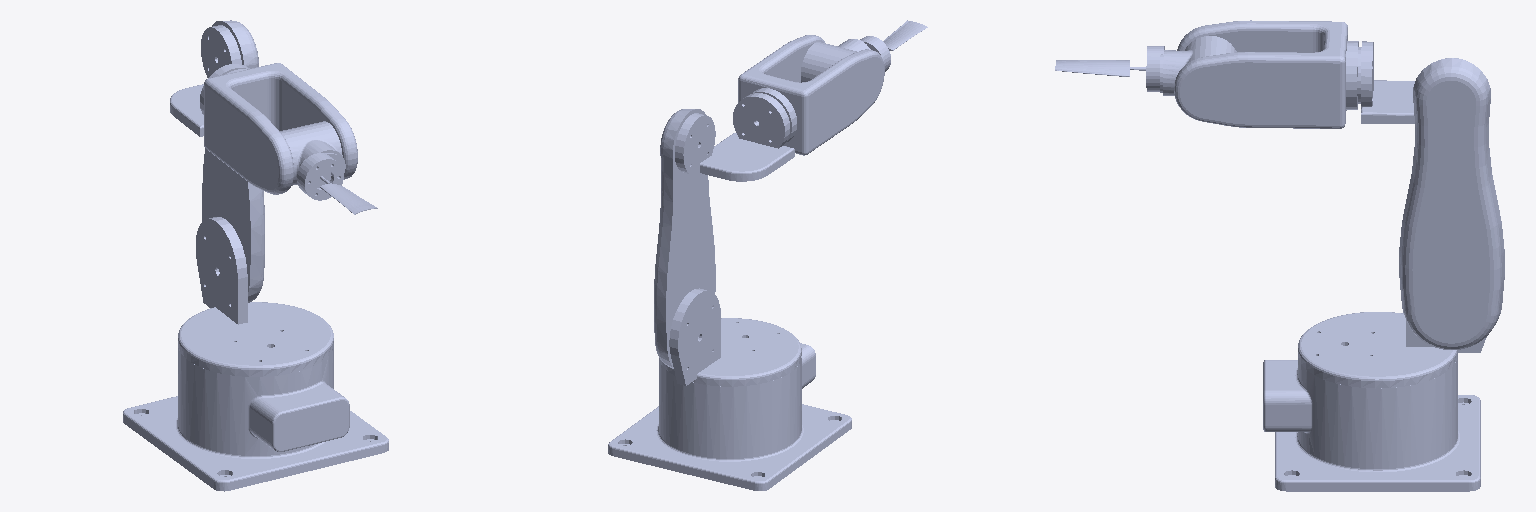
URDF robot description (solid_robot):
<?xml version="1.0" encoding="utf-8" ?>
<!-- This URDF was automatically created by SolidWorks to URDF Exporter! Originally created by [author] ([email redacted]) 
     Commit Version: 1.6.0-4-g7f85cfe  Build Version: 1.6.7995.38578
     For more information, please see http://wiki.ros.org/sw_urdf_exporter -->
<robot name="solid_robot">
    <link name="world" />
    <joint name="base_joint" type="fixed">
        <parent link="world" />
        <child link="base_link" />
        <origin rpy="0 0 0" xyz="0.0 0.0 0.0" />
    </joint>
    <link name="base_link">
        <inertial>
            <origin xyz="-3.0665E-09 0.040159 0.0053975" rpy="0 0 0" />
            <mass value="1.6162" />
            <inertia ixx="0.0041025" ixy="4.7578E-10" ixz="3.3026E-10" iyy="0.0053684" iyz="-8.5852E-05" izz="0.0034747" />
        </inertial>
        <visual>
            <origin xyz="0 0 0" rpy="0 0 0" />
            <geometry>
                <mesh filename="package://solid_robot/meshes/base_link.STL" />
            </geometry>
            <material name="">
                <color rgba="0.79216 0.81961 0.93333 1" />
            </material>
        </visual>
        <collision>
            <origin xyz="0 0 0" rpy="0 0 0" />
            <geometry>
                <mesh filename="package://solid_robot/meshes/base_link.STL" />
            </geometry>
        </collision>
    </link>
    <link name="link_1">
        <inertial>
            <origin xyz="-0.015064 0.017316 -1.5849E-06" rpy="0 0 0" />
            <mass value="0.25096" />
            <inertia ixx="0.0003566" ixy="0.00013216" ixz="-1.9113E-08" iyy="0.00066525" iyz="1.2823E-08" izz="0.00056389" />
        </inertial>
        <visual>
            <origin xyz="0 0 0" rpy="0 0 0" />
            <geometry>
                <mesh filename="package://solid_robot/meshes/link_1.STL" />
            </geometry>
            <material name="">
                <color rgba="0.79216 0.81961 0.93333 1" />
            </material>
        </visual>
        <collision>
            <origin xyz="0 0 0" rpy="0 0 0" />
            <geometry>
                <mesh filename="package://solid_robot/meshes/link_1.STL" />
            </geometry>
        </collision>
    </link>
    <joint name="joint_1" type="revolute">
        <origin xyz="0 0 0.087" rpy="1.5708 0 -1.6004" />
        <parent link="base_link" />
        <child link="link_1" />
        <axis xyz="0 1 0" />
        <limit lower="-0.785" upper="0.785" effort="200" velocity="3" />
    </joint>
    <link name="link_2">
        <inertial>
            <origin xyz="-3.1964E-12 0.086089 0.012331" rpy="0 0 0" />
            <mass value="0.37821" />
            <inertia ixx="0.0020782" ixy="-8.0045E-14" ixz="-9.898E-15" iyy="0.00018523" iyz="1.0283E-06" izz="0.0022389" />
        </inertial>
        <visual>
            <origin xyz="0 0 0" rpy="0 0 0" />
            <geometry>
                <mesh filename="package://solid_robot/meshes/link_2.STL" />
            </geometry>
            <material name="">
                <color rgba="0.79216 0.81961 0.93333 1" />
            </material>
        </visual>
        <collision>
            <origin xyz="0 0 0" rpy="0 0 0" />
            <geometry>
                <mesh filename="package://solid_robot/meshes/link_2.STL" />
            </geometry>
        </collision>
    </link>
    <joint name="joint_2" type="revolute">
        <origin xyz="-0.065 0.058 -0.002258" rpy="-3.1416 0 -3.1416" />
        <parent link="link_1" />
        <child link="link_2" />
        <axis xyz="0 0 -1" />
        <limit lower="-3.14" upper="3.14" effort="200" velocity="3" />
    </joint>
    <link name="link_3">
        <inertial>
            <origin xyz="-0.038723 -0.011804 -0.024232" rpy="0 0 0" />
            <mass value="0.10479" />
            <inertia ixx="7.3641E-05" ixy="-1.7839E-06" ixz="-3.2652E-05" iyy="0.00015116" iyz="-9.6678E-06" izz="0.00013645" />
        </inertial>
        <visual>
            <origin xyz="0 0 0" rpy="0 0 0" />
            <geometry>
                <mesh filename="package://solid_robot/meshes/link_3.STL" />
            </geometry>
            <material name="">
                <color rgba="0.79216 0.81961 0.93333 1" />
            </material>
        </visual>
        <collision>
            <origin xyz="0 0 0" rpy="0 0 0" />
            <geometry>
                <mesh filename="package://solid_robot/meshes/link_3.STL" />
            </geometry>
        </collision>
    </link>
    <joint name="joint_3" type="revolute">
        <origin xyz="0 0.2 0" rpy="0 0 0" />
        <parent link="link_2" />
        <child link="link_3" />
        <axis xyz="0 0 1" />
        <limit lower="-3.14" upper="3.14" effort="200" velocity="3" />
    </joint>
    <link name="link_4">
        <inertial>
            <origin xyz="0.066052 0 -1.249E-16" rpy="0 0 0" />
            <mass value="0.39507" />
            <inertia ixx="0.0004683" ixy="-5.5474E-20" ixz="9.4444E-19" iyy="0.0011613" iyz="-1.3394E-19" izz="0.00096916" />
        </inertial>
        <visual>
            <origin xyz="0 0 0" rpy="0 0 0" />
            <geometry>
                <mesh filename="package://solid_robot/meshes/link_4.STL" />
            </geometry>
            <material name="">
                <color rgba="0.79216 0.81961 0.93333 1" />
            </material>
        </visual>
        <collision>
            <origin xyz="0 0 0" rpy="0 0 0" />
            <geometry>
                <mesh filename="package://solid_robot/meshes/link_4.STL" />
            </geometry>
        </collision>
    </link>
    <joint name="joint_4" type="revolute">
        <origin xyz="-0.080143 0 -0.032258" rpy="3.1416 0 3.1416" />
        <parent link="link_3" />
        <child link="link_4" />
        <axis xyz="1 0 0" />
        <limit lower="-1.57" upper="1.57" effort="200" velocity="3" />
    </joint>
    <link name="link_5">
        <inertial>
            <origin xyz="0.0068176 2.5406E-08 9.1119E-09" rpy="0 0 0" />
            <mass value="0.11702" />
            <inertia ixx="3.7166E-05" ixy="-1.1391E-10" ixz="-1.217E-11" iyy="5.5773E-05" iyz="-9.2774E-11" izz="5.3775E-05" />
        </inertial>
        <visual>
            <origin xyz="0 0 0" rpy="0 0 0" />
            <geometry>
                <mesh filename="package://solid_robot/meshes/link_5.STL" />
            </geometry>
            <material name="">
                <color rgba="0.79216 0.81961 0.93333 1" />
            </material>
        </visual>
        <collision>
            <origin xyz="0 0 0" rpy="0 0 0" />
            <geometry>
                <mesh filename="package://solid_robot/meshes/link_5.STL" />
            </geometry>
        </collision>
    </link>
    <joint name="joint_5" type="revolute">
        <origin xyz="0.13286 0 0" rpy="3.1416 0 0" />
        <parent link="link_4" />
        <child link="link_5" />
        <axis xyz="0 0 1" />
        <limit lower="-3.14" upper="3.14" effort="200" velocity="3" />
    </joint>
    <link name="link_6">
        <inertial>
            <origin xyz="-0.00020456 0.00098086 0.033419" rpy="0 0 0" />
            <mass value="0.030395" />
            <inertia ixx="7.219E-06" ixy="2.8444E-07" ixz="-1.0737E-07" iyy="7.4262E-06" iyz="-1.2439E-07" izz="3.797E-06" />
        </inertial>
        <visual>
            <origin xyz="-0.009 0.004 0" rpy="0 0 0" />
            <geometry>
                <mesh filename="package://solid_robot/meshes/link_6.STL" />
            </geometry>
            <material name="">
                <color rgba="0.79216 0.81961 0.93333 1" />
            </material>
        </visual>
        <collision>
            <origin xyz="0 0 0" rpy="0 0 0" />
            <geometry>
                <mesh filename="package://solid_robot/meshes/link_6.STL" />
            </geometry>
        </collision>
    </link>
    <joint name="joint_6" type="revolute">
        <origin xyz="0.040026 0 0" rpy="-1.5708 -1.0837 -1.5708" />
        <parent link="link_5" />
        <child link="link_6" />
        <axis xyz="0 0 1" />
        <limit lower="-3.14" upper="3.14" effort="200" velocity="3" />
    </joint>
    <transmission name="link_1_trans">
        <type>transmission_interface/SimpleTransmission</type>
        <joint name="joint_1">
            <hardwareInterface>hardware_interface/PositionJointInterface</hardwareInterface>
        </joint>
        <actuator name="link_1_motor">
            <hardwareInterface>hardware_interface/PositionJointInterface</hardwareInterface>
            <mechanicalReduction>1</mechanicalReduction>
        </actuator>
    </transmission>
    <transmission name="link_2_trans">
        <type>transmission_interface/SimpleTransmission</type>
        <joint name="joint_2">
            <hardwareInterface>hardware_interface/PositionJointInterface</hardwareInterface>
        </joint>
        <actuator name="link_2_motor">
            <hardwareInterface>hardware_interface/PositionJointInterface</hardwareInterface>
            <mechanicalReduction>1</mechanicalReduction>
        </actuator>
    </transmission>
    <transmission name="link_3_trans">
        <type>transmission_interface/SimpleTransmission</type>
        <joint name="joint_3">
            <hardwareInterface>hardware_interface/PositionJointInterface</hardwareInterface>
        </joint>
        <actuator name="link_3_motor">
            <hardwareInterface>hardware_interface/PositionJointInterface</hardwareInterface>
            <mechanicalReduction>1</mechanicalReduction>
        </actuator>
    </transmission>
    <transmission name="link_4_trans">
        <type>transmission_interface/SimpleTransmission</type>
        <joint name="joint_4">
            <hardwareInterface>hardware_interface/PositionJointInterface</hardwareInterface>
        </joint>
        <actuator name="link_4_motor">
            <hardwareInterface>hardware_interface/PositionJointInterface</hardwareInterface>
            <mechanicalReduction>1</mechanicalReduction>
        </actuator>
    </transmission>
    <transmission name="link_5_trans">
        <type>transmission_interface/SimpleTransmission</type>
        <joint name="joint_5">
            <hardwareInterface>hardware_interface/PositionJointInterface</hardwareInterface>
        </joint>
        <actuator name="link_5_motor">
            <hardwareInterface>hardware_interface/PositionJointInterface</hardwareInterface>
            <mechanicalReduction>1</mechanicalReduction>
        </actuator>
    </transmission>
    <transmission name="link_6_trans">
        <type>transmission_interface/SimpleTransmission</type>
        <joint name="joint_6">
            <hardwareInterface>hardware_interface/PositionJointInterface</hardwareInterface>
        </joint>
        <actuator name="link_6_motor">
            <hardwareInterface>hardware_interface/PositionJointInterface</hardwareInterface>
            <mechanicalReduction>1</mechanicalReduction>
        </actuator>
    </transmission>
    <gazebo>
        <plugin name="control" filename="libgazebo_ros_control.so">
            <robotNamespace>/</robotNamespace>
        </plugin>
    </gazebo>
    <gazebo reference="link_1">
        <selfCollide>true</selfCollide>
    </gazebo>
    <gazebo reference="link_2">
        <selfCollide>true</selfCollide>
    </gazebo>
    <gazebo reference="link_3">
        <selfCollide>true</selfCollide>
    </gazebo>
    <gazebo reference="link_4">
        <selfCollide>true</selfCollide>
    </gazebo>
    <gazebo reference="link_5">
        <selfCollide>true</selfCollide>
    </gazebo>
    <gazebo reference="link_6">
        <selfCollide>true</selfCollide>
    </gazebo>
    <plugin name="gazebo_ros_control">
            <robotNamespace>/</robotNamespace>
    </plugin>
</robot>

--- What the picture shows (computed from the rendered views, not written in the file) ---
3 views of the same robot in one strip: view 1: azimuth 30°, elevation 25°; view 2: azimuth 150°, elevation 25°; view 3: azimuth 270°, elevation 25° (orthographic).
Robot: solid_robot — 8 links, 7 joints (6 revolute, 1 fixed); root link world; default pose: every joint at zero.
Links seen in each view (by area): view 1: base_link, link_1, link_4, link_2, link_3, link_6, link_5; view 2: base_link, link_4, link_1, link_2, link_3, link_5, link_6; view 3: link_2, base_link, link_4, link_1, link_3, link_6, link_5.
Link boxes in pixels (x1,y1,x2,y2): base_link: (123, 348, 388, 491); link_1: (178, 217, 333, 376); link_4: (204, 63, 357, 194); link_2: (202, 20, 264, 302); link_3: (170, 25, 249, 136); link_6: (297, 153, 377, 214); link_5: (279, 121, 345, 185); base_link: (608, 343, 851, 490); link_4: (738, 35, 884, 155); link_1: (659, 288, 801, 386); link_2: (654, 109, 715, 368); link_3: (675, 93, 794, 181); link_5: (801, 39, 870, 82); link_6: (860, 20, 927, 71); link_2: (1399, 58, 1504, 349); base_link: (1263, 357, 1480, 491); link_4: (1174, 20, 1361, 128); link_1: (1298, 312, 1486, 388); link_3: (1361, 41, 1467, 123); link_6: (1055, 46, 1164, 91); link_5: (1160, 36, 1236, 95).
Size in the robot's own frame: 0.18 by 0.393 by 0.38 metres.
7 mesh visuals loaded from 7 distinct referenced files (7 binary STL).